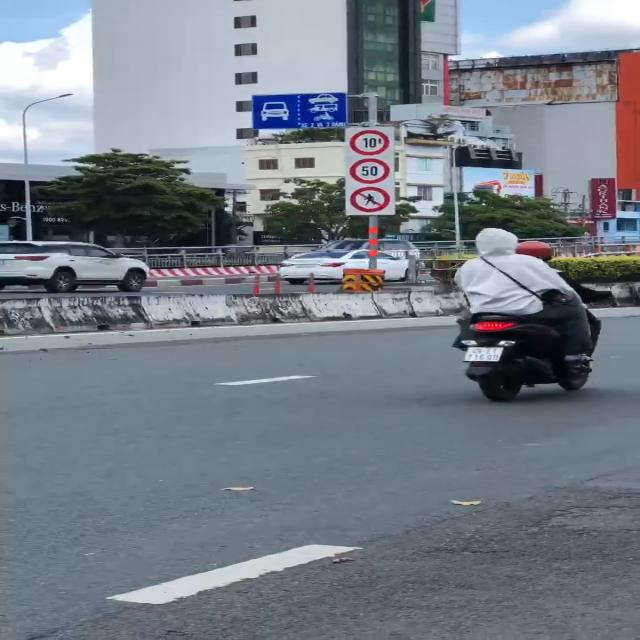Bien bao cam nguoi di bo: (348, 184, 396, 214)
Bien bao toc do toi da cho phep: (347, 157, 391, 185)
